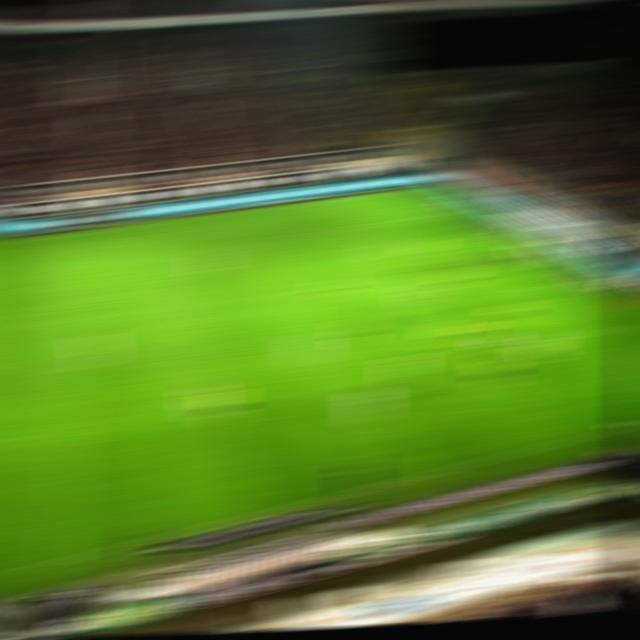bigarea_bottom_inner: (475, 345, 508, 355)
bigarea_top_inner: (338, 220, 370, 230)
bigarea_top_outter: (443, 205, 474, 215)
bottom_arc_area_intersection: (410, 288, 443, 298)
corner: (406, 183, 438, 193)
halfcircle_bottom: (59, 360, 95, 375)
halfcircle_top: (67, 289, 101, 299)
midline_bottom_intersection: (44, 554, 78, 568)
midline_top_intersection: (73, 224, 106, 238)
smallarea_bottom_inner: (518, 282, 551, 291)
smallarea_bottom_outter: (561, 276, 592, 285)
smallarea_top_inner: (444, 233, 475, 243)
smallarea_top_outter: (479, 227, 511, 237)
top_arc_area_intersection: (369, 248, 401, 259)
